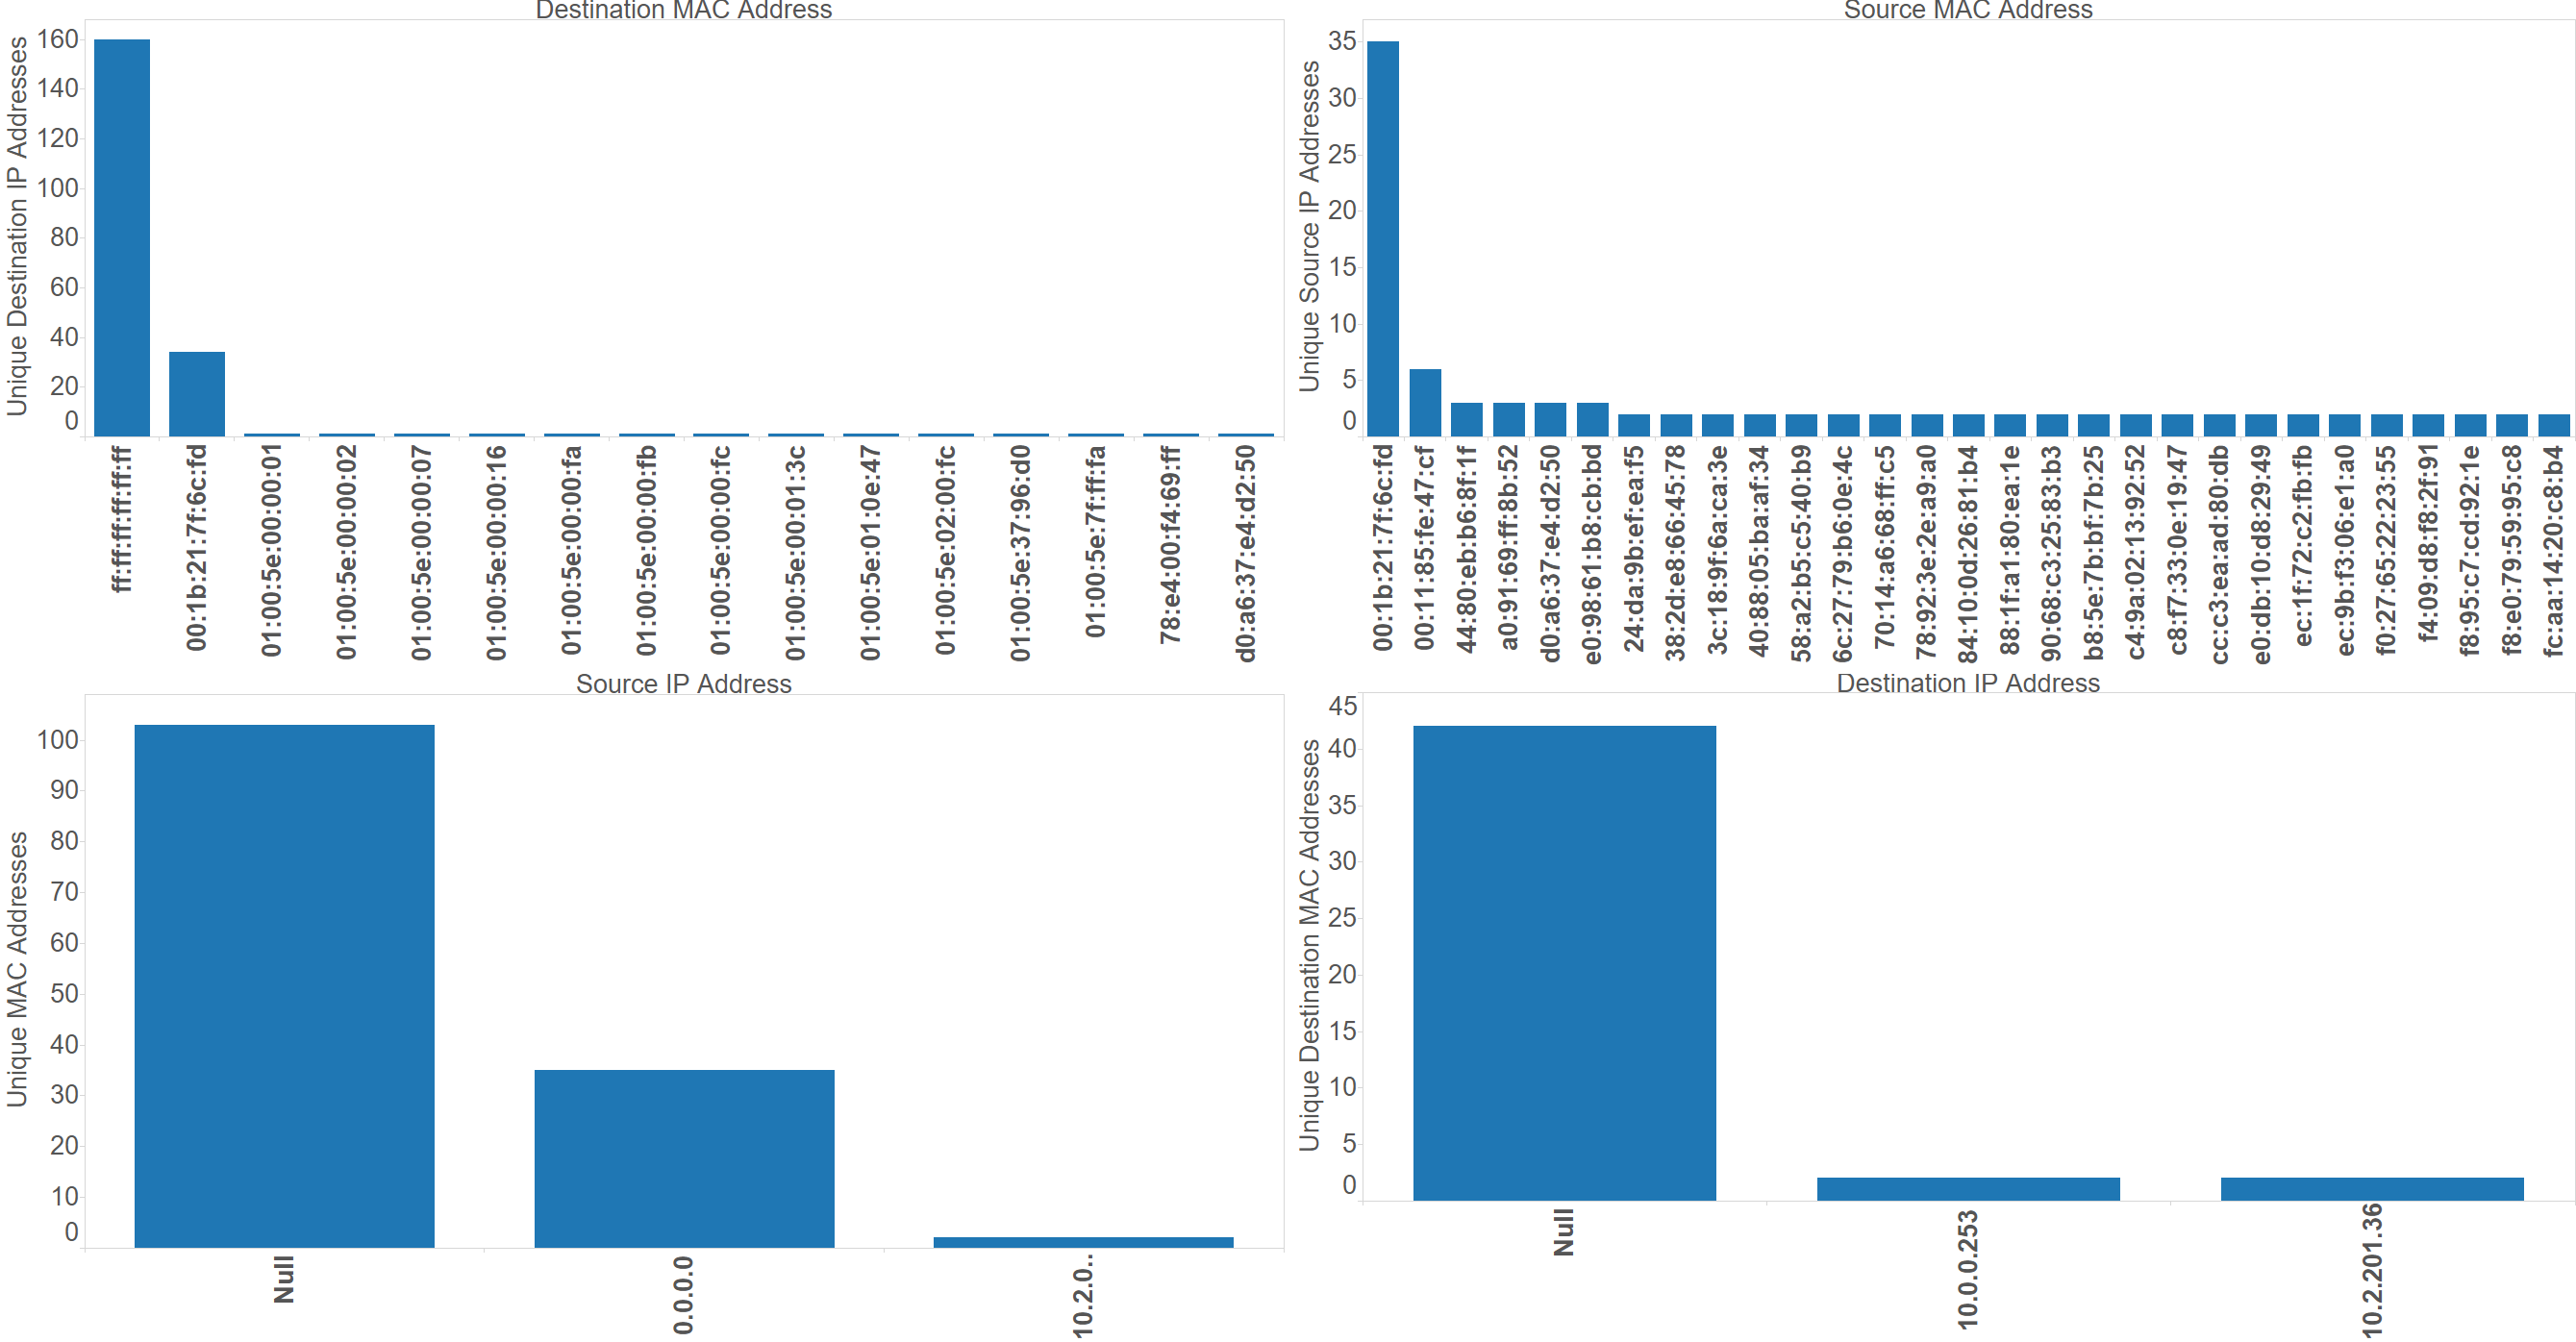

The page's visual inventory and layout, read from the dashboard file:
{"tool":"tableau","page":{"name":"IP vs MAC Correspondence","canvas":[1000,1000],"units":"permille","ordinal":0},"visuals":[{"type":"worksheet","title":"IP Addresses per Dst MAC","mark":"Automatic","rows":["ipdst"],"cols":["hwdst"],"box":[0,0,500,500]},{"type":"worksheet","title":"IP Addresses per Src MAC","mark":"Automatic","rows":["ipsrc"],"cols":["hwsrc"],"box":[500,0,500,500]},{"type":"worksheet","title":"MAC Addresses per Src IP","mark":"Automatic","rows":["hwsrc"],"cols":["ipsrc"],"box":[0,500,500,500]},{"type":"worksheet","title":"MAC Addresses per Dst IP","mark":"Automatic","rows":["hwdst"],"cols":["ipdst"],"box":[500,500,500,500]}]}

Visuals, with their boxes on the dashboard's canvas, which has no fixed pixel size, in thousandths of its width and height (x1, y1, x2, y2). These are canvas units, not pixel positions in the 2576x1342 screenshot, which may show the page scaled, cropped or inside an application window:
"IP Addresses per Dst MAC" worksheet: (x1=0, y1=0, x2=500, y2=500)
"IP Addresses per Src MAC" worksheet: (x1=500, y1=0, x2=1000, y2=500)
"MAC Addresses per Src IP" worksheet: (x1=0, y1=500, x2=500, y2=1000)
"MAC Addresses per Dst IP" worksheet: (x1=500, y1=500, x2=1000, y2=1000)
